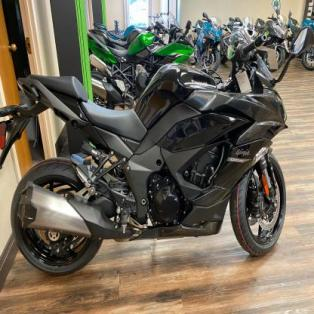Motocicleta: (9, 28, 290, 277)
